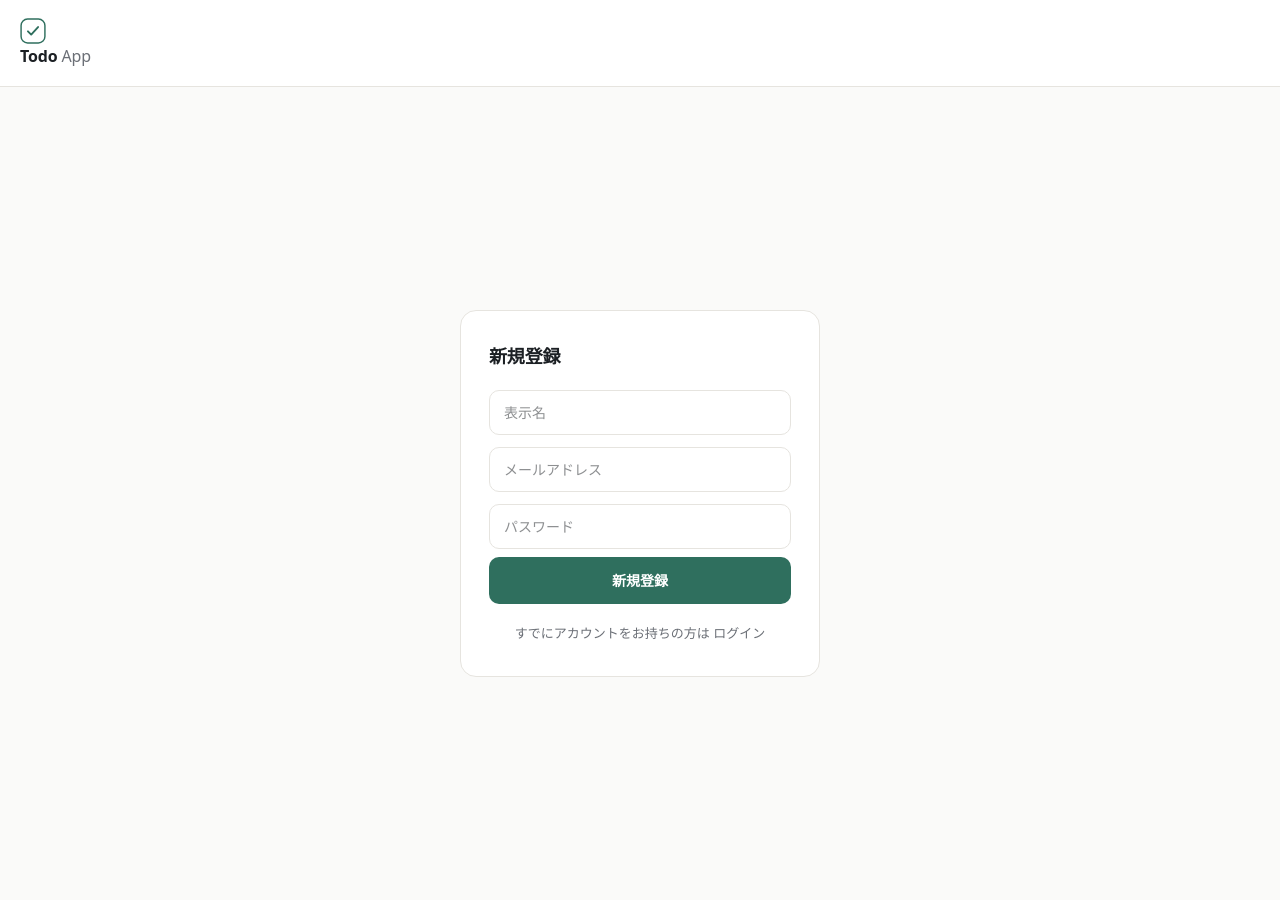
it: LoginForm › register mode › 表示名が空で送信すると "表示名を入力してください!" が表示される
This screenshot has width=1280, height=900.
Step 1. Type "test@example.com" into the field with placeholder "メールアドレス" → (640, 470), box 489,447 -> 791,492
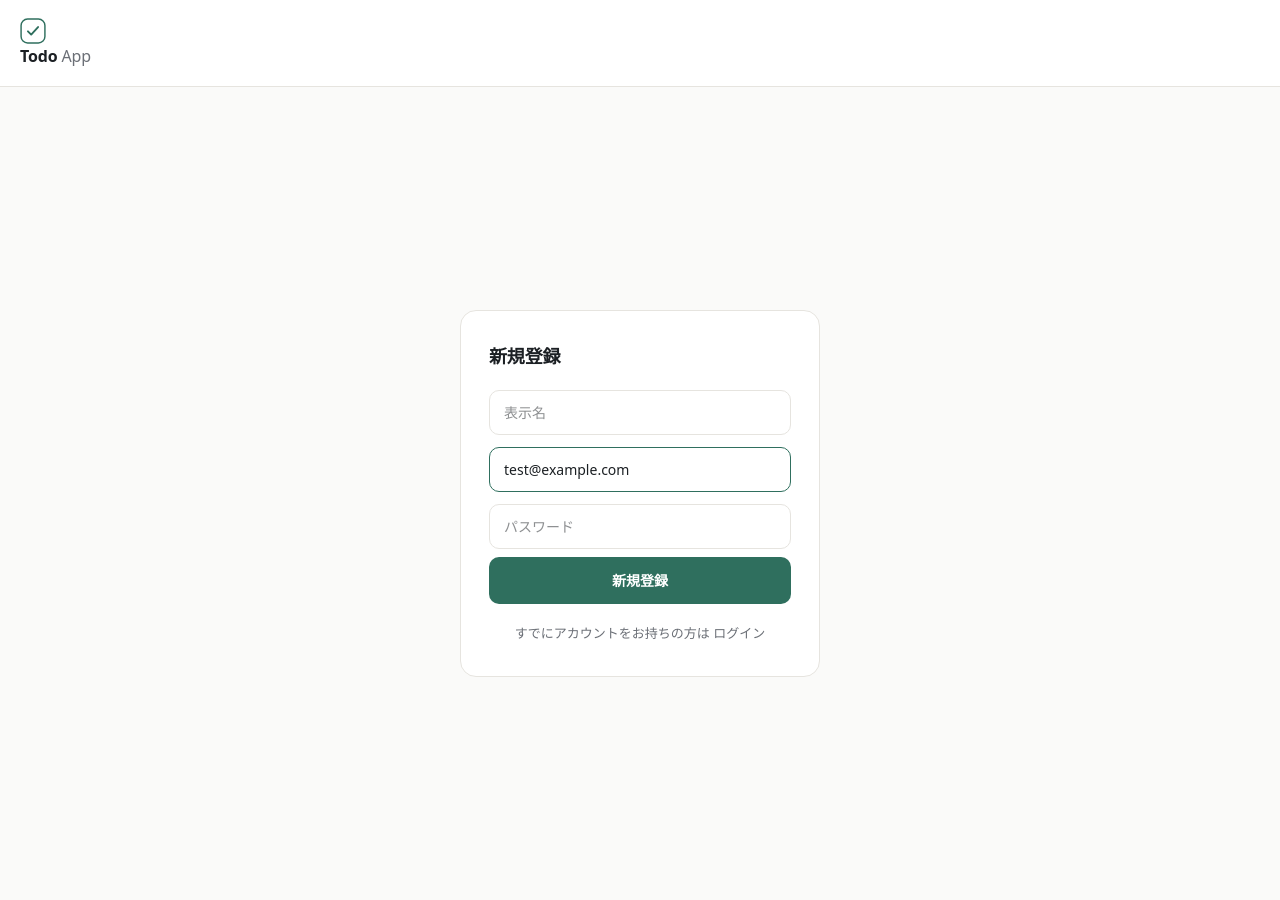
Step 2. Type "Password1" into the password field with placeholder "パスワード" → (640, 527), box 489,504 -> 791,549
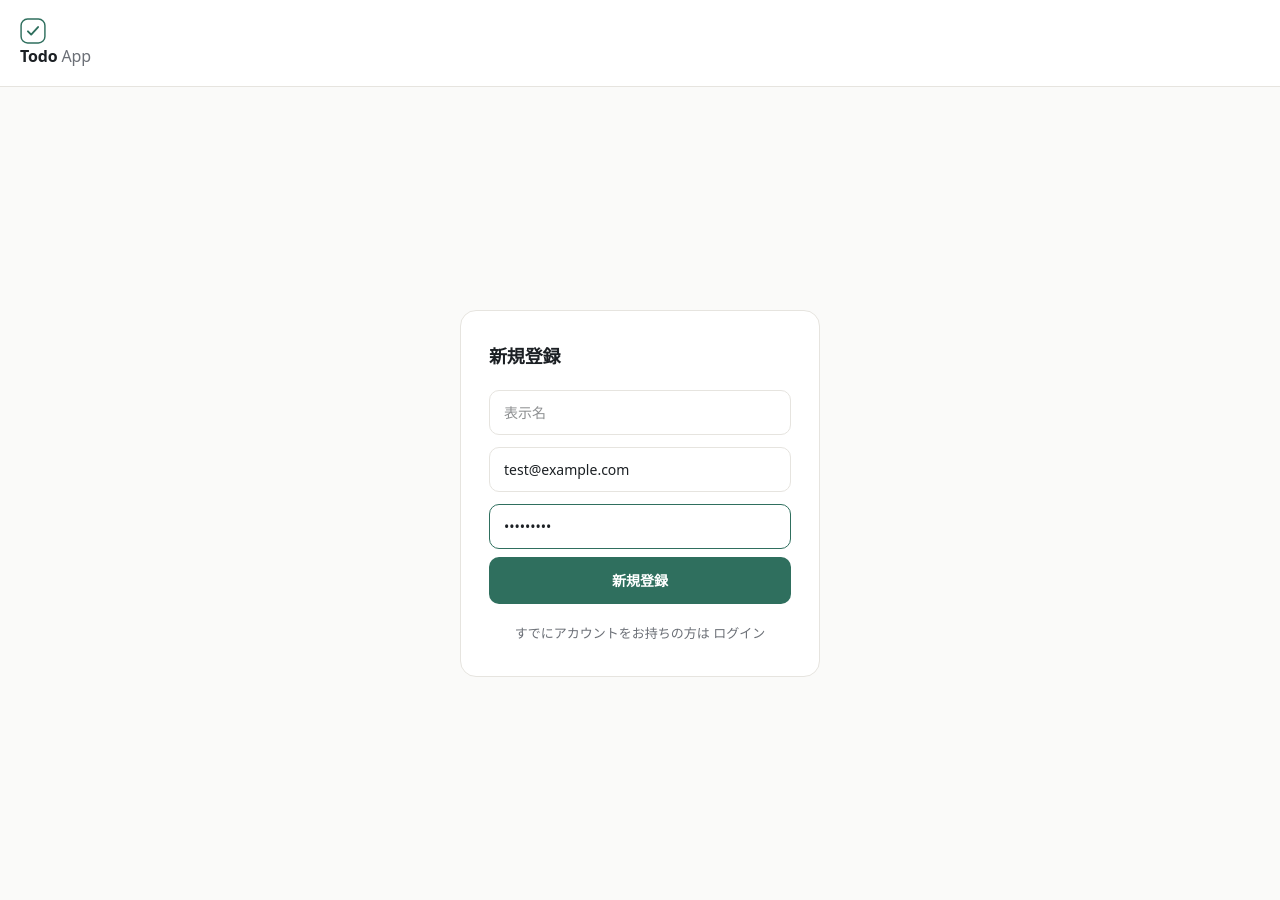
Step 3. Click the button "新規登録" → (640, 581), box 489,557 -> 791,604
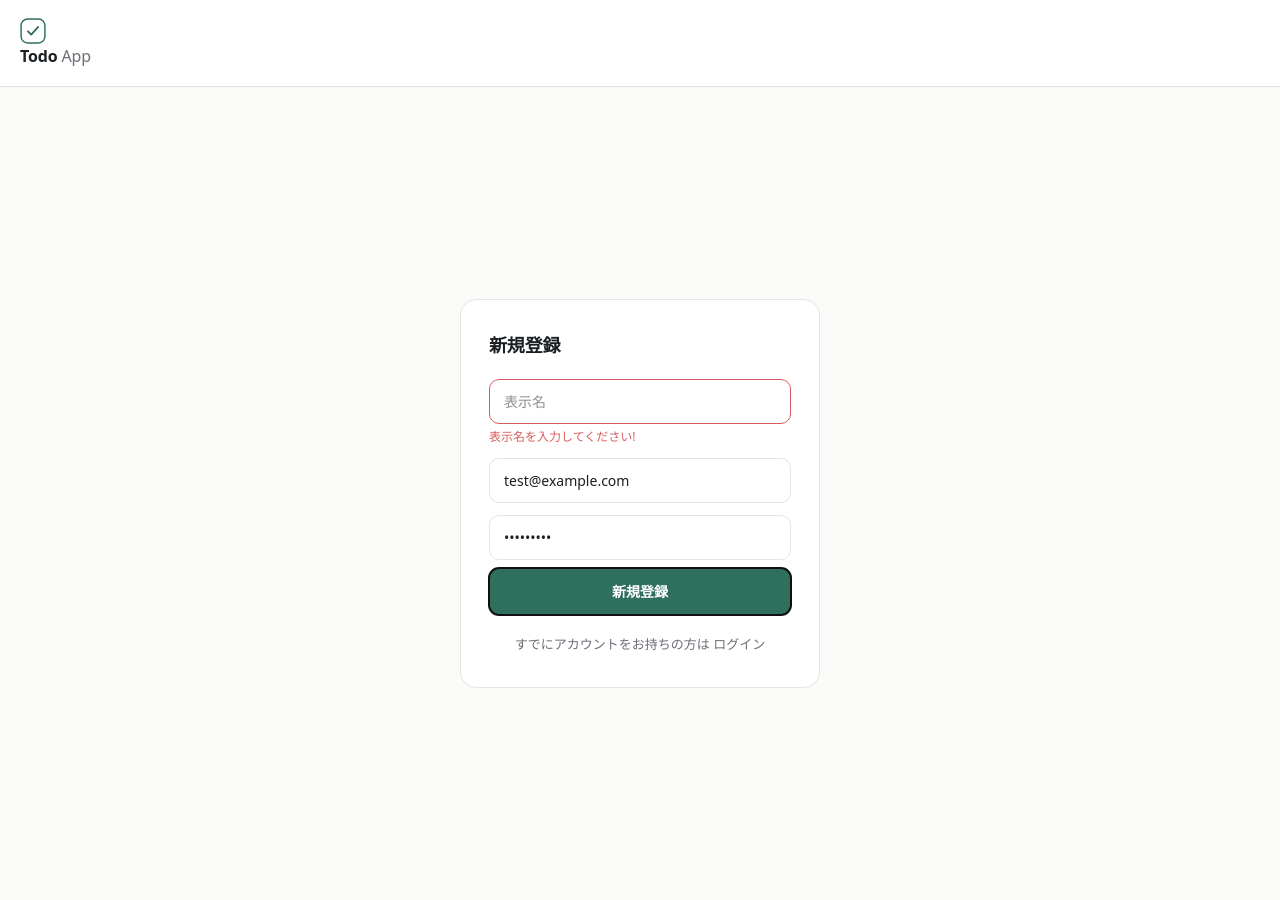
Result: the text "表示名を入力してください!" is shown at 489,428 -> 636,445
